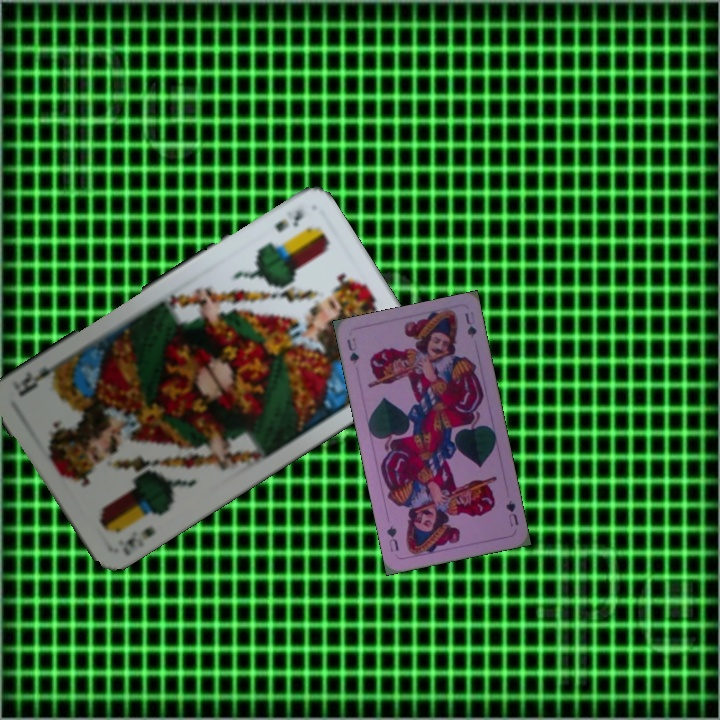EK: (271, 205, 307, 235), (121, 522, 158, 551)
GU: (343, 333, 362, 367), (502, 496, 521, 529)
